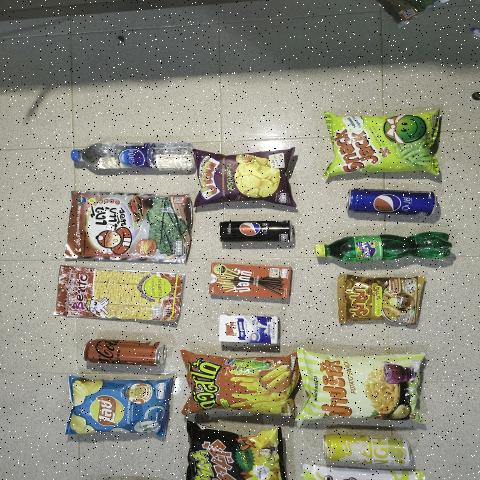bento_red: (59, 270, 179, 327)
coke_red: (82, 338, 168, 365)
crystal: (64, 138, 200, 176)
fanta_green: (312, 229, 460, 262)
karamujo: (182, 429, 276, 480)
lay_blue: (71, 379, 164, 440)
mama: (337, 278, 419, 325)
paprika: (308, 357, 420, 425)
party_purple: (197, 156, 288, 202)
pepsi_black: (218, 219, 294, 246)
pepsi_blue: (344, 187, 443, 218)
pokki: (211, 264, 290, 305)
singha_yellow: (315, 435, 420, 471)
snack_jack: (326, 115, 442, 174)
taokaenoi: (72, 192, 190, 265)
thai_denmark: (218, 315, 281, 348)
twisco: (184, 353, 289, 416)
